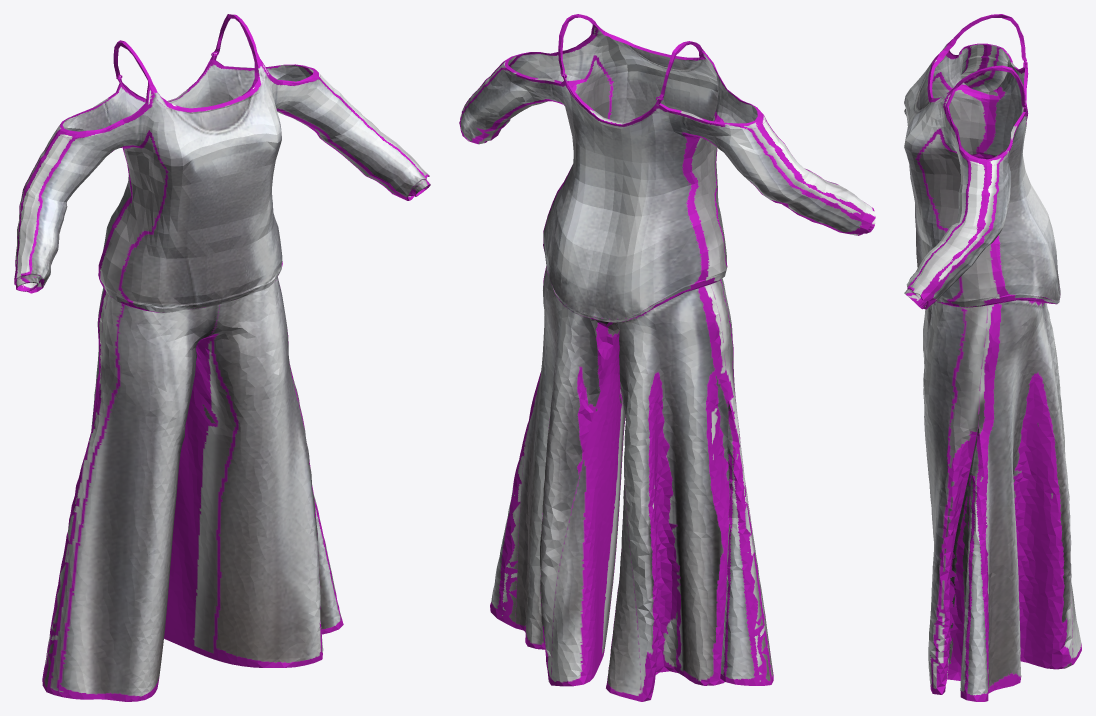
3 views of the same model, side by side, from view 1: azimuth 30°, elevation 25°; view 2: azimuth 150°, elevation 25°; view 3: azimuth 270°, elevation 25° (orthographic). The views are drawn at different scales.
Bounding box in the file's own units: 0.714 × 1.05 × 0.2772.
Materials: 1 (1 with a texture image).
